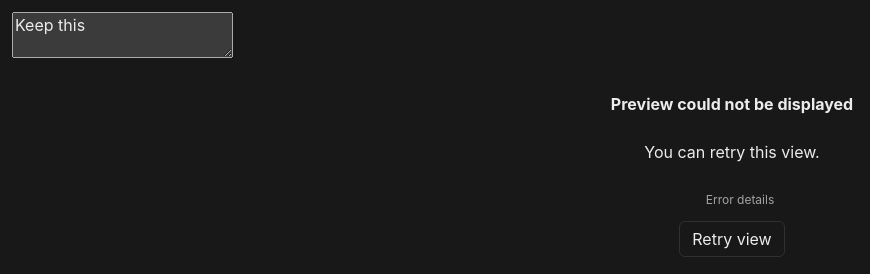
Test: pane and preview boundaries › keeps sibling input available when a pane throws and permits a retry
This screenshot has width=870, height=274.
Click the button "Retry view". click: (732, 239)
box: top-left (679, 221), bottom-right (785, 257)
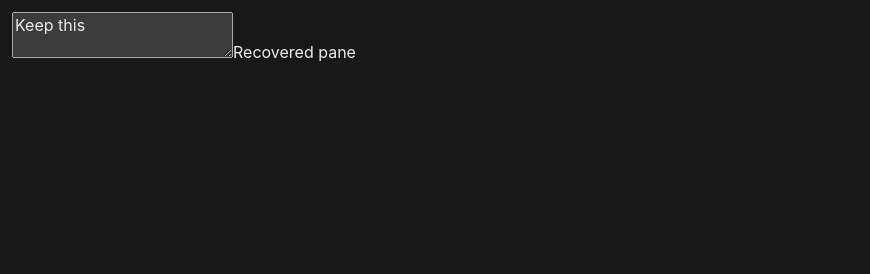
Expected: the text box holds "Keep this", top-left (12, 12), bottom-right (233, 58)
Result: the text "Recovered pane" is shown at top-left (233, 42), bottom-right (356, 62)
